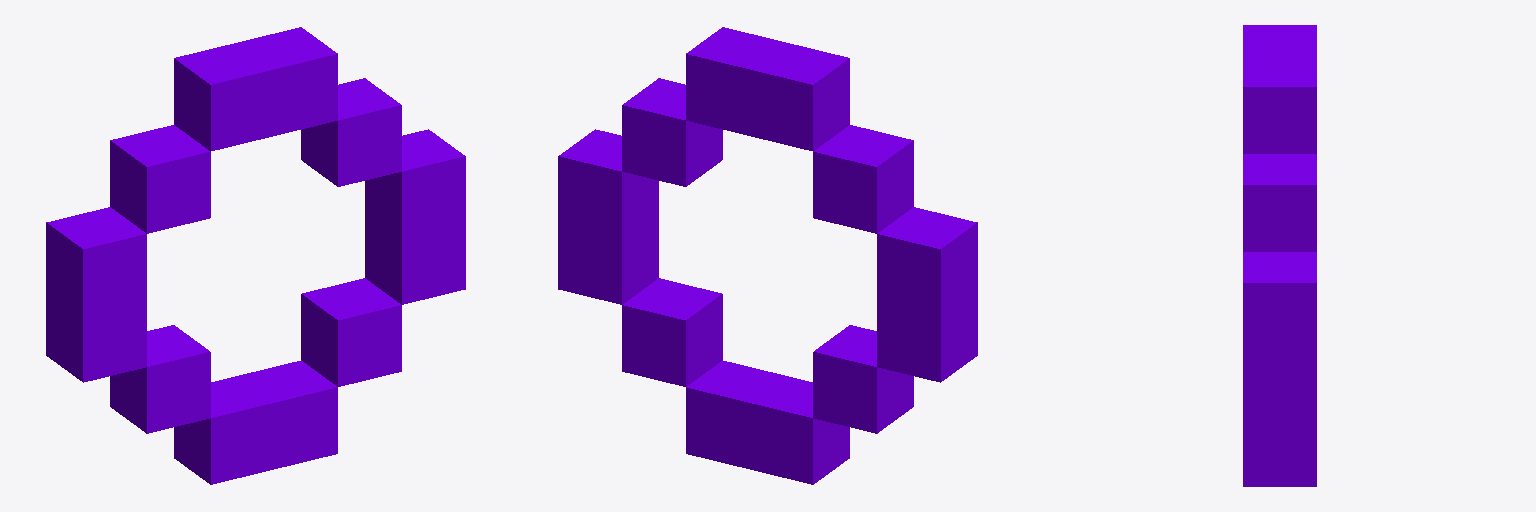
The picture shows the model from 3 angles: view 1: azimuth 30°, elevation 25°; view 2: azimuth 150°, elevation 25°; view 3: azimuth 270°, elevation 25°; orthographic projection.
Parts seen in each view (by area): view 1: object 1; view 2: object 1; view 3: object 1.
Boxes of the visible parts, x1,y1,x2,y2 form: object 1: [46, 27, 465, 484]; object 1: [558, 27, 977, 484]; object 1: [1243, 25, 1316, 486].
Size of the model in its own units: 0.6 by 0.6 by 0.1.
1 materials, 1 textured.